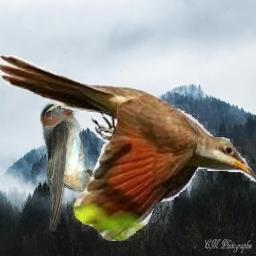Cuckoo: (0, 54, 256, 241)
Swallow: (40, 101, 120, 232)
